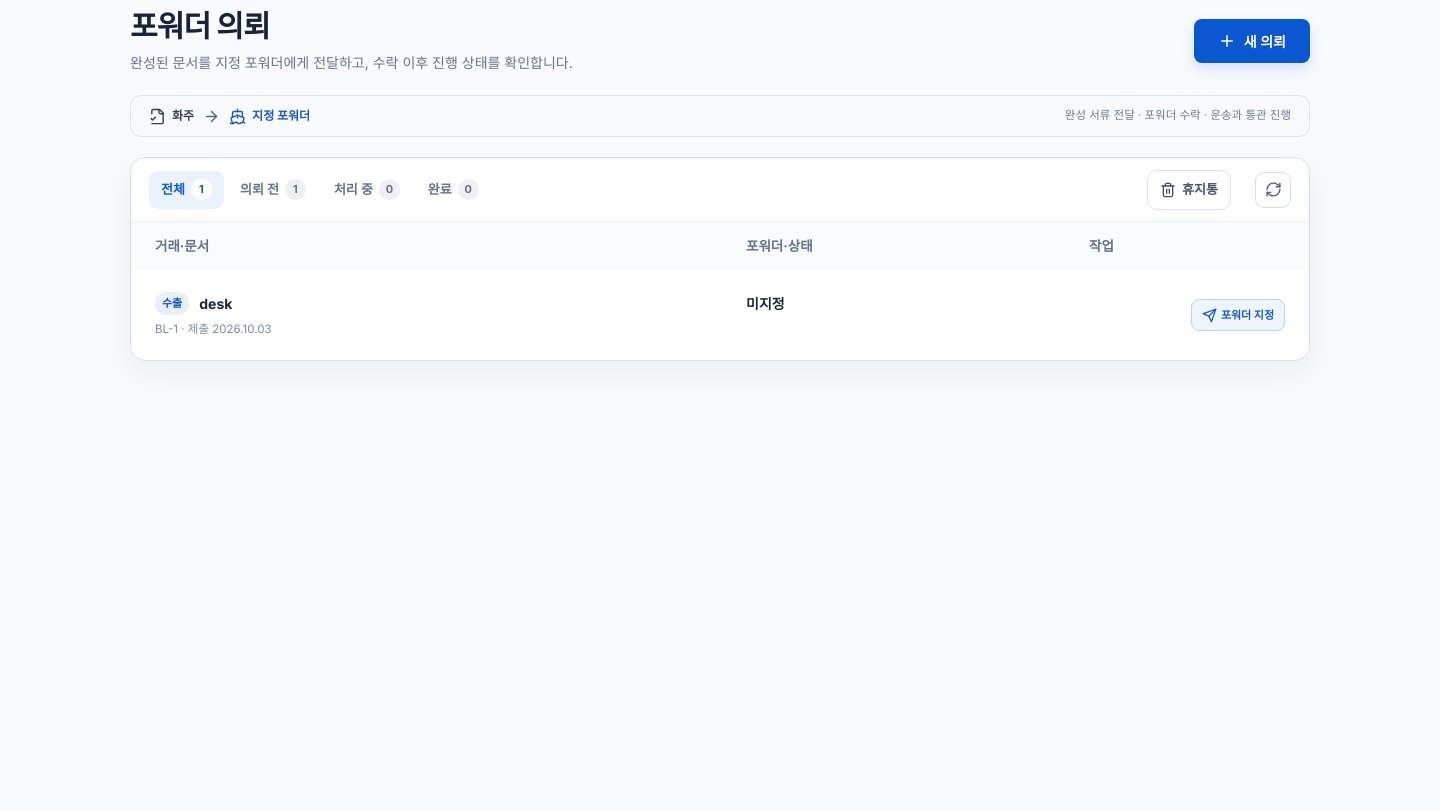
it: 포워더 의뢰 — 왼쪽으로 밀어 목록에서 삭제 › 지운 거래는 휴지통에 모이고, [복원]으로 다시 보인다
Press the mouse on the element with class "shipper-request-row" at (720, 315), box x1=131 y1=270 x2=1309 y2=360
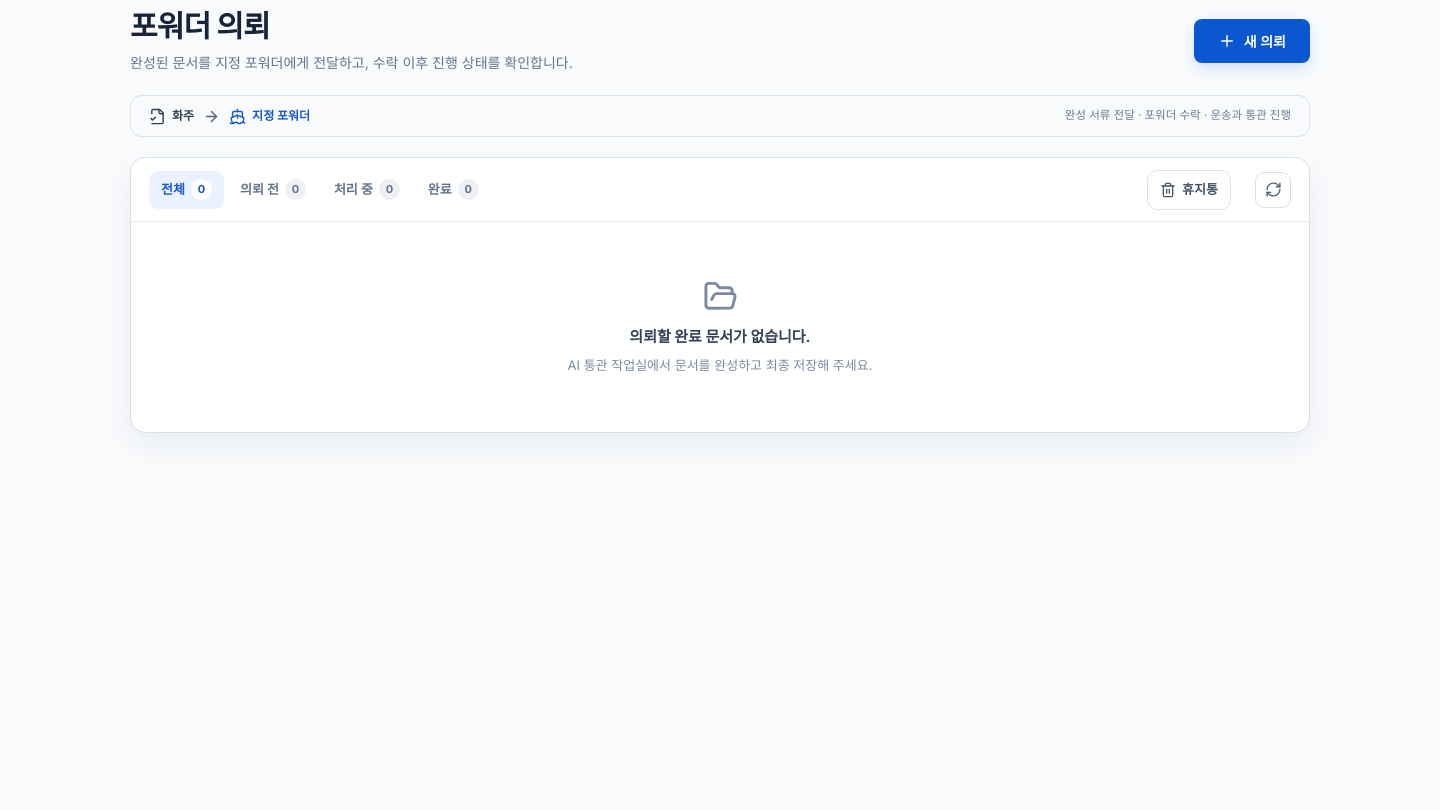
Click the button with class "trash-open" at (1189, 190), box x1=1147 y1=170 x2=1231 y2=210
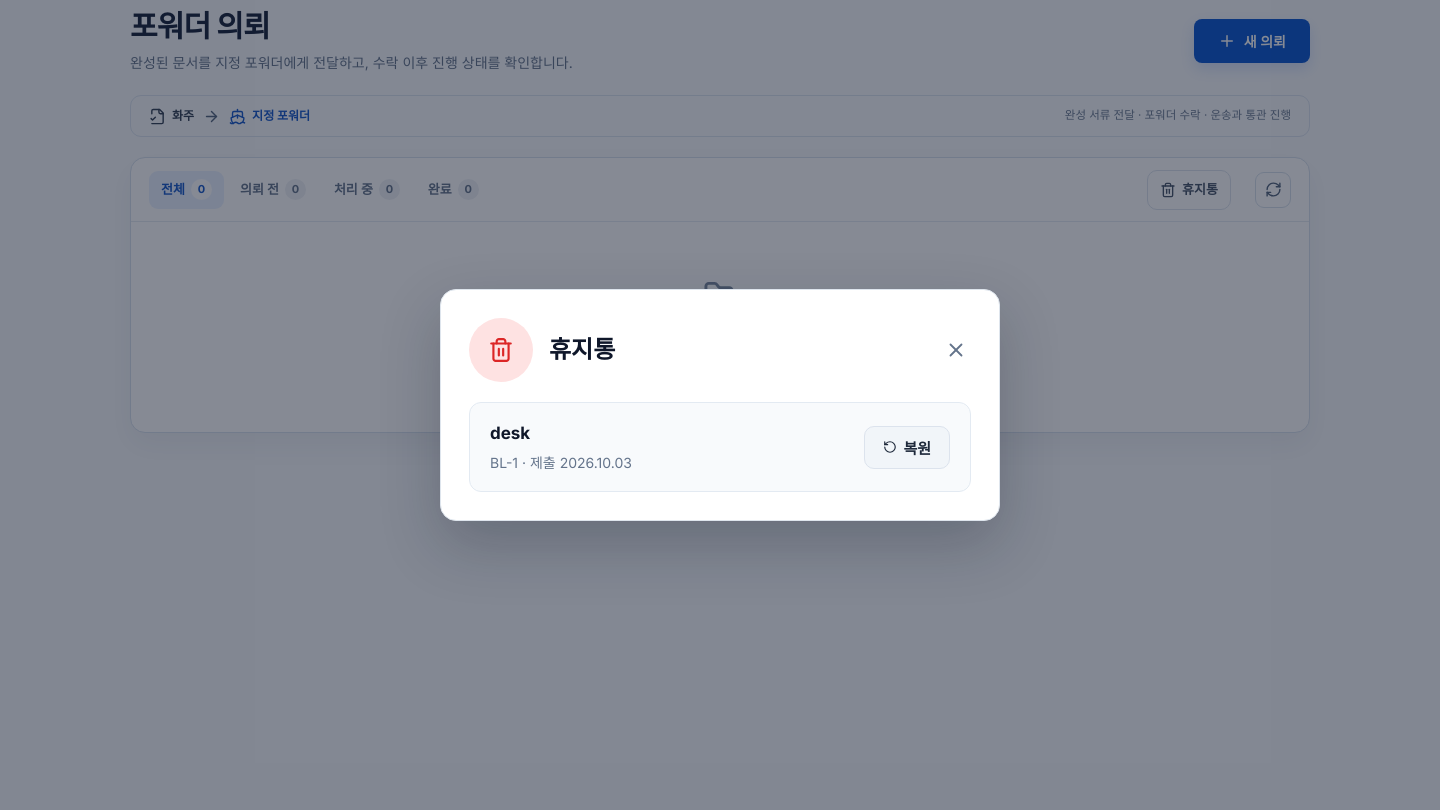
Expected: the text "desk" is shown, x1=490 y1=423 x2=530 y2=443
Click the button "복원" at (907, 447), box x1=864 y1=426 x2=950 y2=468
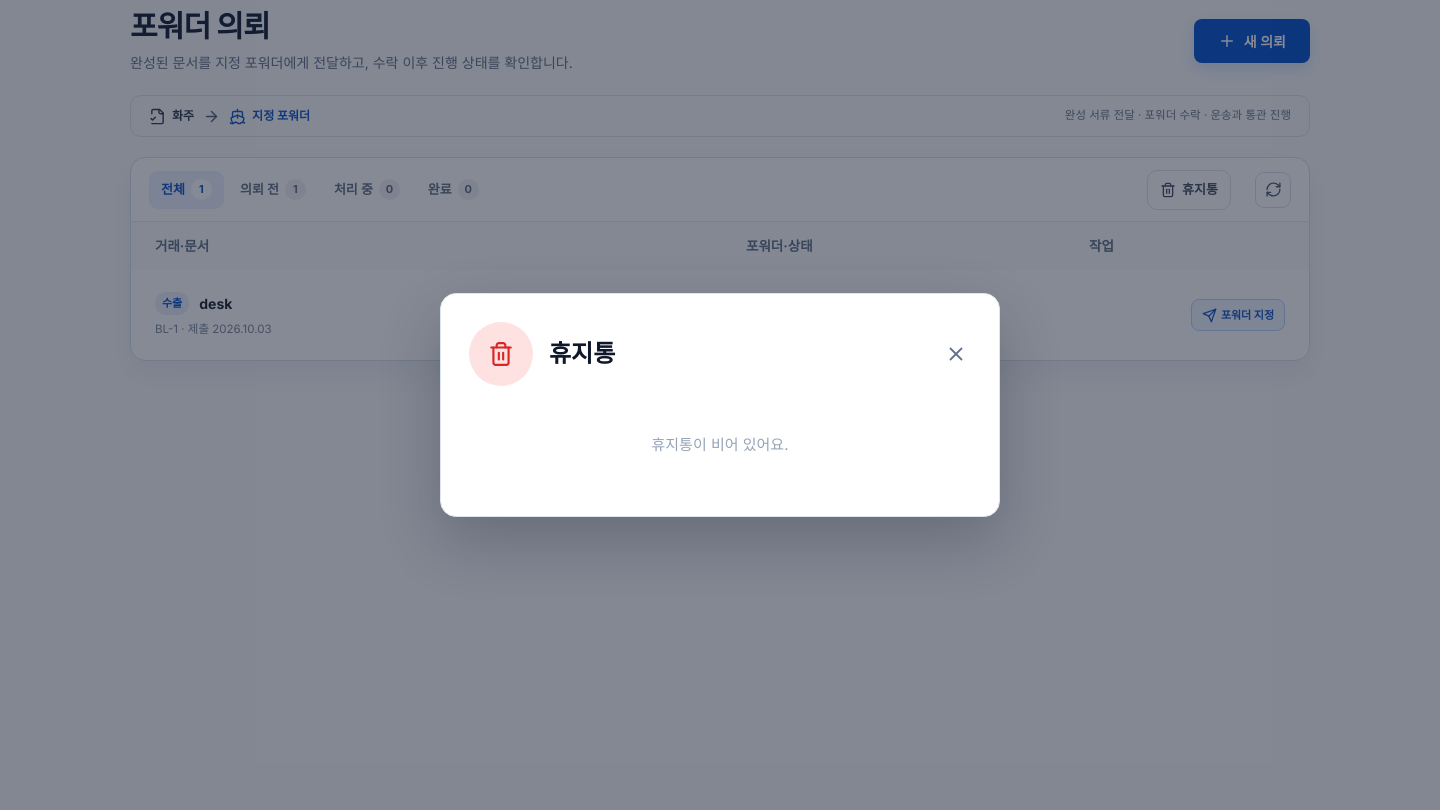
Expected: the element with class "shipper-request-row" is shown, x1=131 y1=270 x2=1309 y2=360
